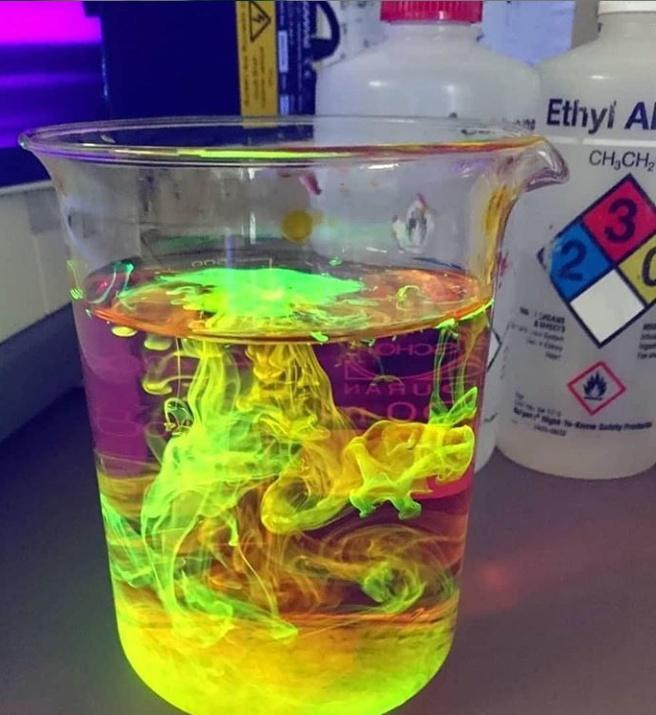Beaker: (20, 106, 588, 712)
